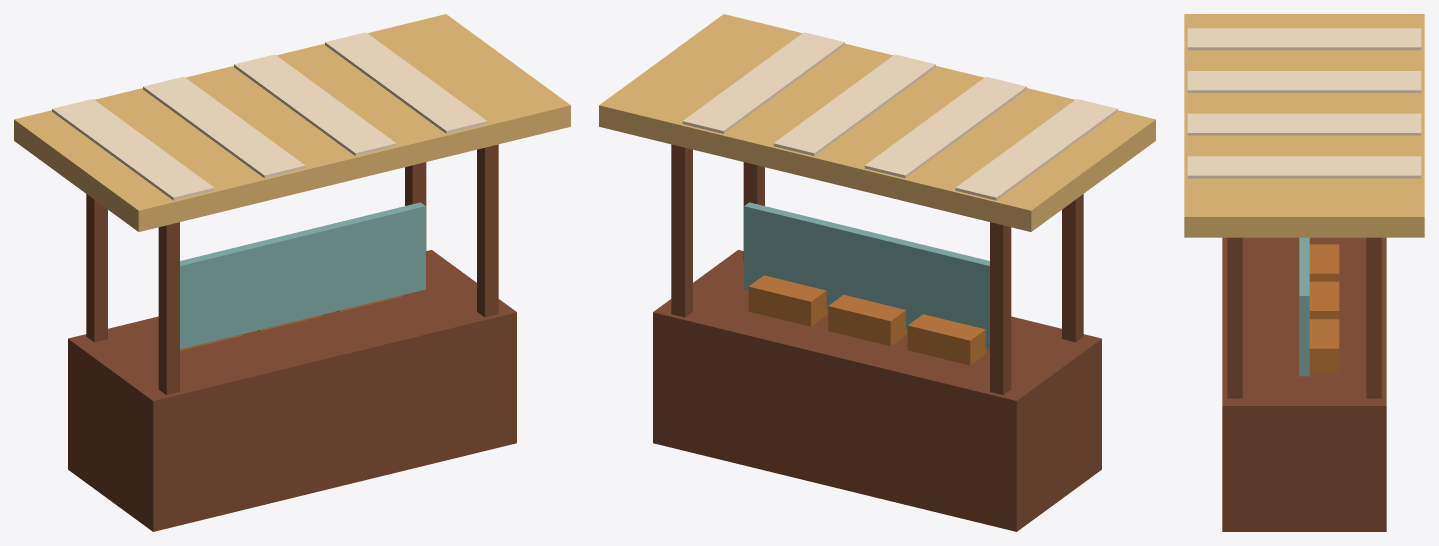
The model's file is banh_mi.glb.
3 views of the same model, side by side, from view 1: azimuth 30°, elevation 25°; view 2: azimuth 150°, elevation 25°; view 3: azimuth 270°, elevation 25° (orthographic). The views are drawn at different scales.
Visible parts, largest first — view 1: _MeshInstance3D_19, _MeshInstance3D_26, _MeshInstance3D_31, _MeshInstance3D_28, _MeshInstance3D_29, _MeshInstance3D_27, _MeshInstance3D_30, _MeshInstance3D_25, _MeshInstance3D_23, _MeshInstance3D_22, _MeshInstance3D_24; view 2: _MeshInstance3D_19, _MeshInstance3D_26, _MeshInstance3D_31, _MeshInstance3D_28, _MeshInstance3D_29, _MeshInstance3D_27, _MeshInstance3D_30, _MeshInstance3D_24, _MeshInstance3D_22, _MeshInstance3D_23, _MeshInstance3D_34, _MeshInstance3D_32 (+2 smaller); view 3: _MeshInstance3D_19, _MeshInstance3D_26, _MeshInstance3D_30, _MeshInstance3D_27, _MeshInstance3D_29, _MeshInstance3D_28, _MeshInstance3D_24, _MeshInstance3D_25, _MeshInstance3D_34, _MeshInstance3D_31, _MeshInstance3D_33, _MeshInstance3D_32.
Boxes of the visible parts, bbox=[...] form: _MeshInstance3D_19: bbox=[68, 250, 516, 531]; _MeshInstance3D_26: bbox=[14, 14, 570, 231]; _MeshInstance3D_31: bbox=[180, 202, 425, 349]; _MeshInstance3D_28: bbox=[143, 76, 305, 178]; _MeshInstance3D_29: bbox=[234, 54, 396, 156]; _MeshInstance3D_27: bbox=[52, 99, 214, 200]; _MeshInstance3D_30: bbox=[325, 32, 487, 133]; _MeshInstance3D_25: bbox=[477, 144, 498, 317]; _MeshInstance3D_23: bbox=[158, 222, 179, 395]; _MeshInstance3D_22: bbox=[86, 194, 107, 342]; _MeshInstance3D_24: bbox=[405, 162, 426, 260]; _MeshInstance3D_19: bbox=[653, 250, 1101, 531]; _MeshInstance3D_26: bbox=[599, 14, 1155, 231]; _MeshInstance3D_31: bbox=[744, 202, 989, 349]; _MeshInstance3D_28: bbox=[864, 76, 1026, 178]; _MeshInstance3D_29: bbox=[773, 54, 935, 156]; _MeshInstance3D_27: bbox=[955, 99, 1117, 200]; _MeshInstance3D_30: bbox=[682, 32, 844, 133]; _MeshInstance3D_24: bbox=[671, 144, 692, 317]; _MeshInstance3D_22: bbox=[990, 222, 1011, 395]; _MeshInstance3D_23: bbox=[1062, 194, 1083, 342]; _MeshInstance3D_34: bbox=[748, 275, 827, 326]; _MeshInstance3D_32: bbox=[907, 314, 986, 365]; _MeshInstance3D_19: bbox=[1222, 237, 1386, 531]; _MeshInstance3D_26: bbox=[1184, 14, 1424, 237]; _MeshInstance3D_30: bbox=[1187, 156, 1421, 178]; _MeshInstance3D_27: bbox=[1187, 28, 1421, 50]; _MeshInstance3D_29: bbox=[1187, 113, 1421, 135]; _MeshInstance3D_28: bbox=[1187, 71, 1421, 92]; _MeshInstance3D_24: bbox=[1366, 237, 1381, 398]; _MeshInstance3D_25: bbox=[1227, 237, 1242, 398]; _MeshInstance3D_34: bbox=[1309, 319, 1339, 372]; _MeshInstance3D_31: bbox=[1299, 237, 1309, 376]; _MeshInstance3D_33: bbox=[1309, 281, 1339, 319]; _MeshInstance3D_32: bbox=[1309, 244, 1339, 281].
Bounding box in the file's own units: 3.8 × 2.92 × 1.9.
